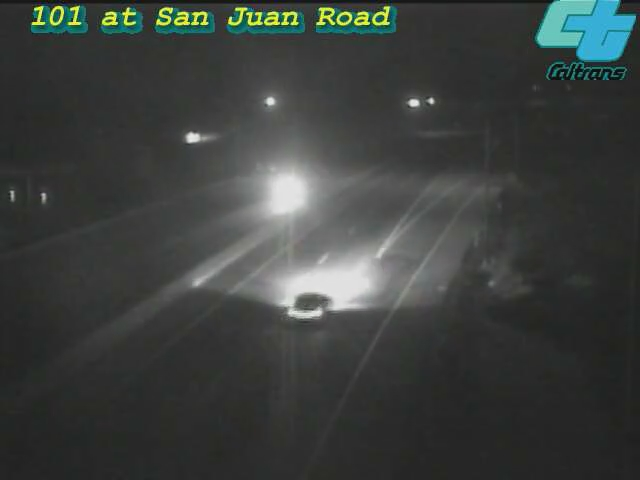vehicle: (264, 269, 344, 349), (245, 147, 325, 227)
